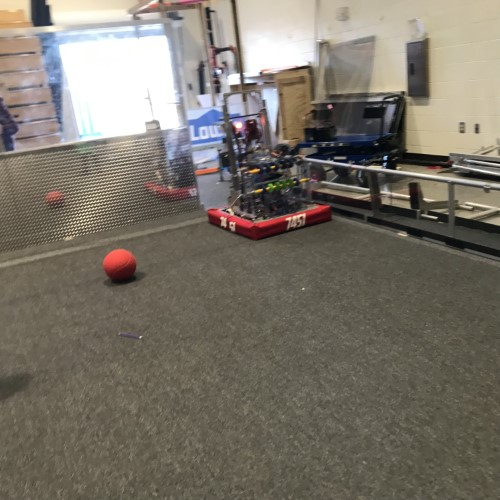red: (103, 249, 138, 282)
